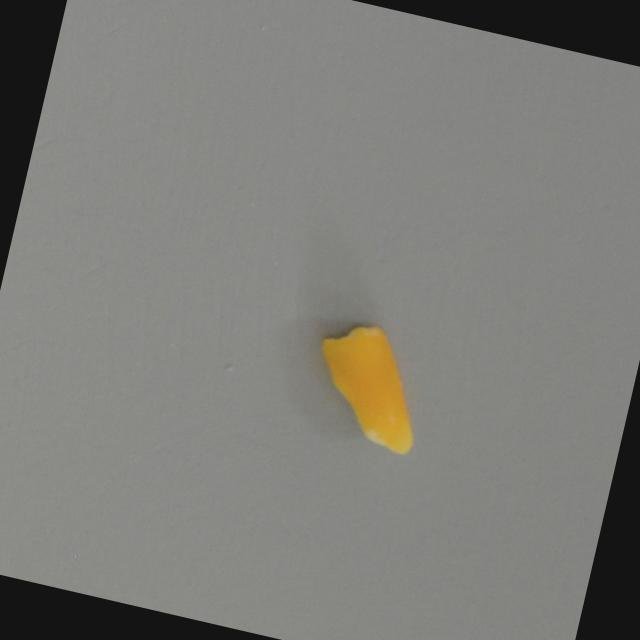estandar: (292, 307, 454, 461)
